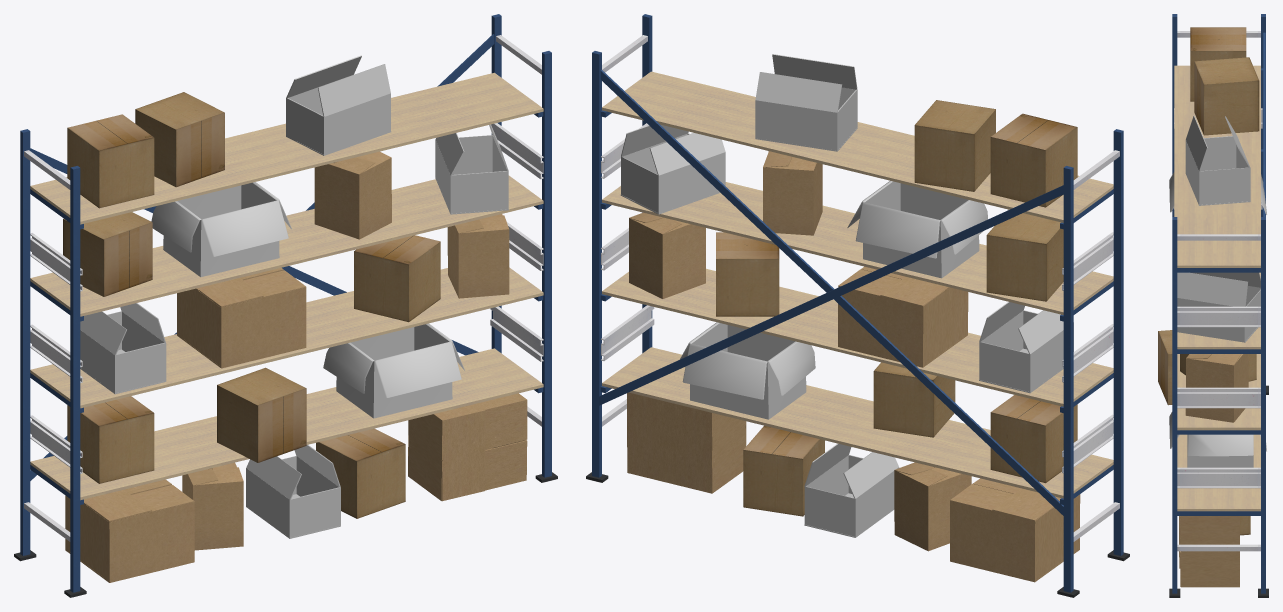
Rendered from BigShelves03Group4.FBX.
The picture shows the model from 3 angles, left to right: view 1: azimuth 30°, elevation 25°; view 2: azimuth 150°, elevation 25°; view 3: azimuth 270°, elevation 25°; orthographic projection. The views are drawn at different scales.
Visible parts, largest first — view 1: BigShelves03, Cardboard_box01, Cardbox_closed02, Cardbox_open01, Cardbox_open02, Cardbox_closed01; view 2: BigShelves03, Cardboard_box01, Cardbox_open01, Cardbox_closed02, Cardbox_open02, Cardbox_closed01; view 3: BigShelves03, Cardboard_box01, Cardbox_open01, Cardbox_closed02, Cardbox_closed01, Cardbox_open02.
Part boxes in pixels (<box>): BigShelves03: <box>14,14,557,597</box>; Cardboard_box01: <box>63,92,440,518</box>; Cardbox_closed02: <box>65,267,527,582</box>; Cardbox_open01: <box>80,55,508,538</box>; Cardbox_open02: <box>151,182,464,418</box>; Cardbox_closed01: <box>182,151,509,550</box>; BigShelves03: <box>586,14,1129,597</box>; Cardboard_box01: <box>716,100,1077,516</box>; Cardbox_open01: <box>620,54,1073,537</box>; Cardbox_closed02: <box>627,266,1080,582</box>; Cardbox_open02: <box>680,180,987,419</box>; Cardbox_closed01: <box>629,151,971,551</box>; BigShelves03: <box>1169,14,1268,597</box>; Cardboard_box01: <box>1158,27,1259,535</box>; Cardbox_open01: <box>1177,116,1260,342</box>; Cardbox_closed02: <box>1179,516,1239,587</box>; Cardbox_closed01: <box>1185,354,1248,422</box>; Cardbox_open02: <box>1169,172,1266,467</box>.
Size of the model in its own units: 355 by 304 by 79.21.
